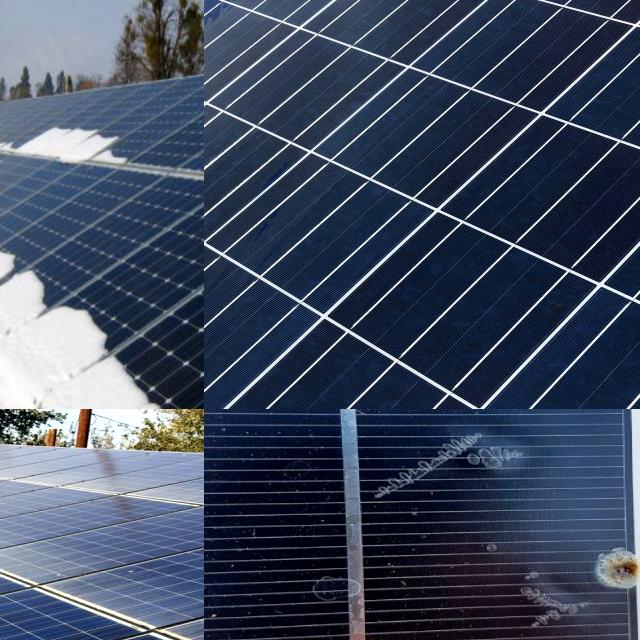crack: (204, 0, 640, 409)
panel: (0, 286, 100, 409), (36, 118, 138, 200), (0, 185, 53, 302), (45, 296, 113, 372), (123, 354, 204, 409), (10, 254, 55, 318), (0, 166, 30, 254), (0, 134, 34, 180), (0, 129, 27, 179), (0, 113, 29, 158), (0, 221, 22, 277), (0, 112, 28, 155)
shadow: (575, 528, 640, 618)
